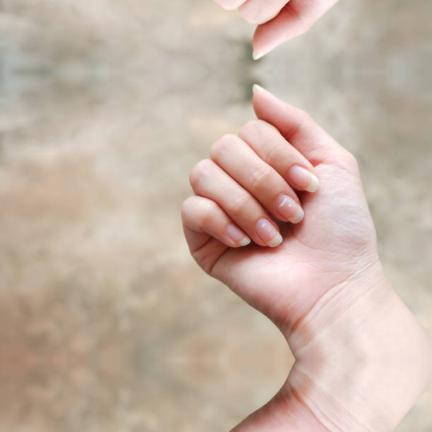Nail: (275, 194, 304, 223), (255, 218, 283, 248), (288, 166, 319, 192), (226, 223, 251, 246)
